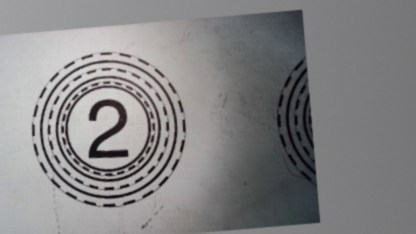2r: (23, 44, 192, 213)
